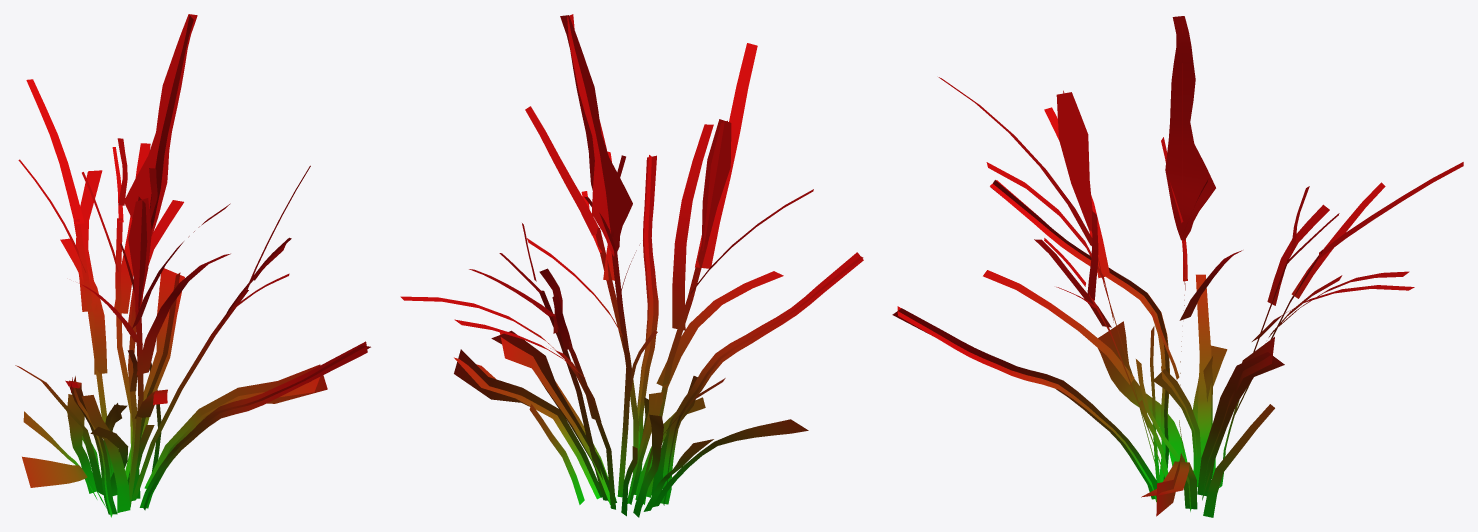
The model's file is Basket Grass_LOD1_Var6_slfpffjr.fbx.
3 renders of one model, left to right at view 1: azimuth 30°, elevation 25°; view 2: azimuth 150°, elevation 25°; view 3: azimuth 270°, elevation 25°, orthographic. The views are drawn at different scales.
Visible parts, largest first — view 1: _292a_Var6_LOD1; view 2: _292a_Var6_LOD1; view 3: _292a_Var6_LOD1.
Part boxes in pixels (x1,y1,x2,y2): _292a_Var6_LOD1: (15, 14, 370, 517); _292a_Var6_LOD1: (400, 14, 863, 517); _292a_Var6_LOD1: (892, 16, 1463, 517).
Size of the model in its own units: 35.24 by 47.61 by 47.52.
